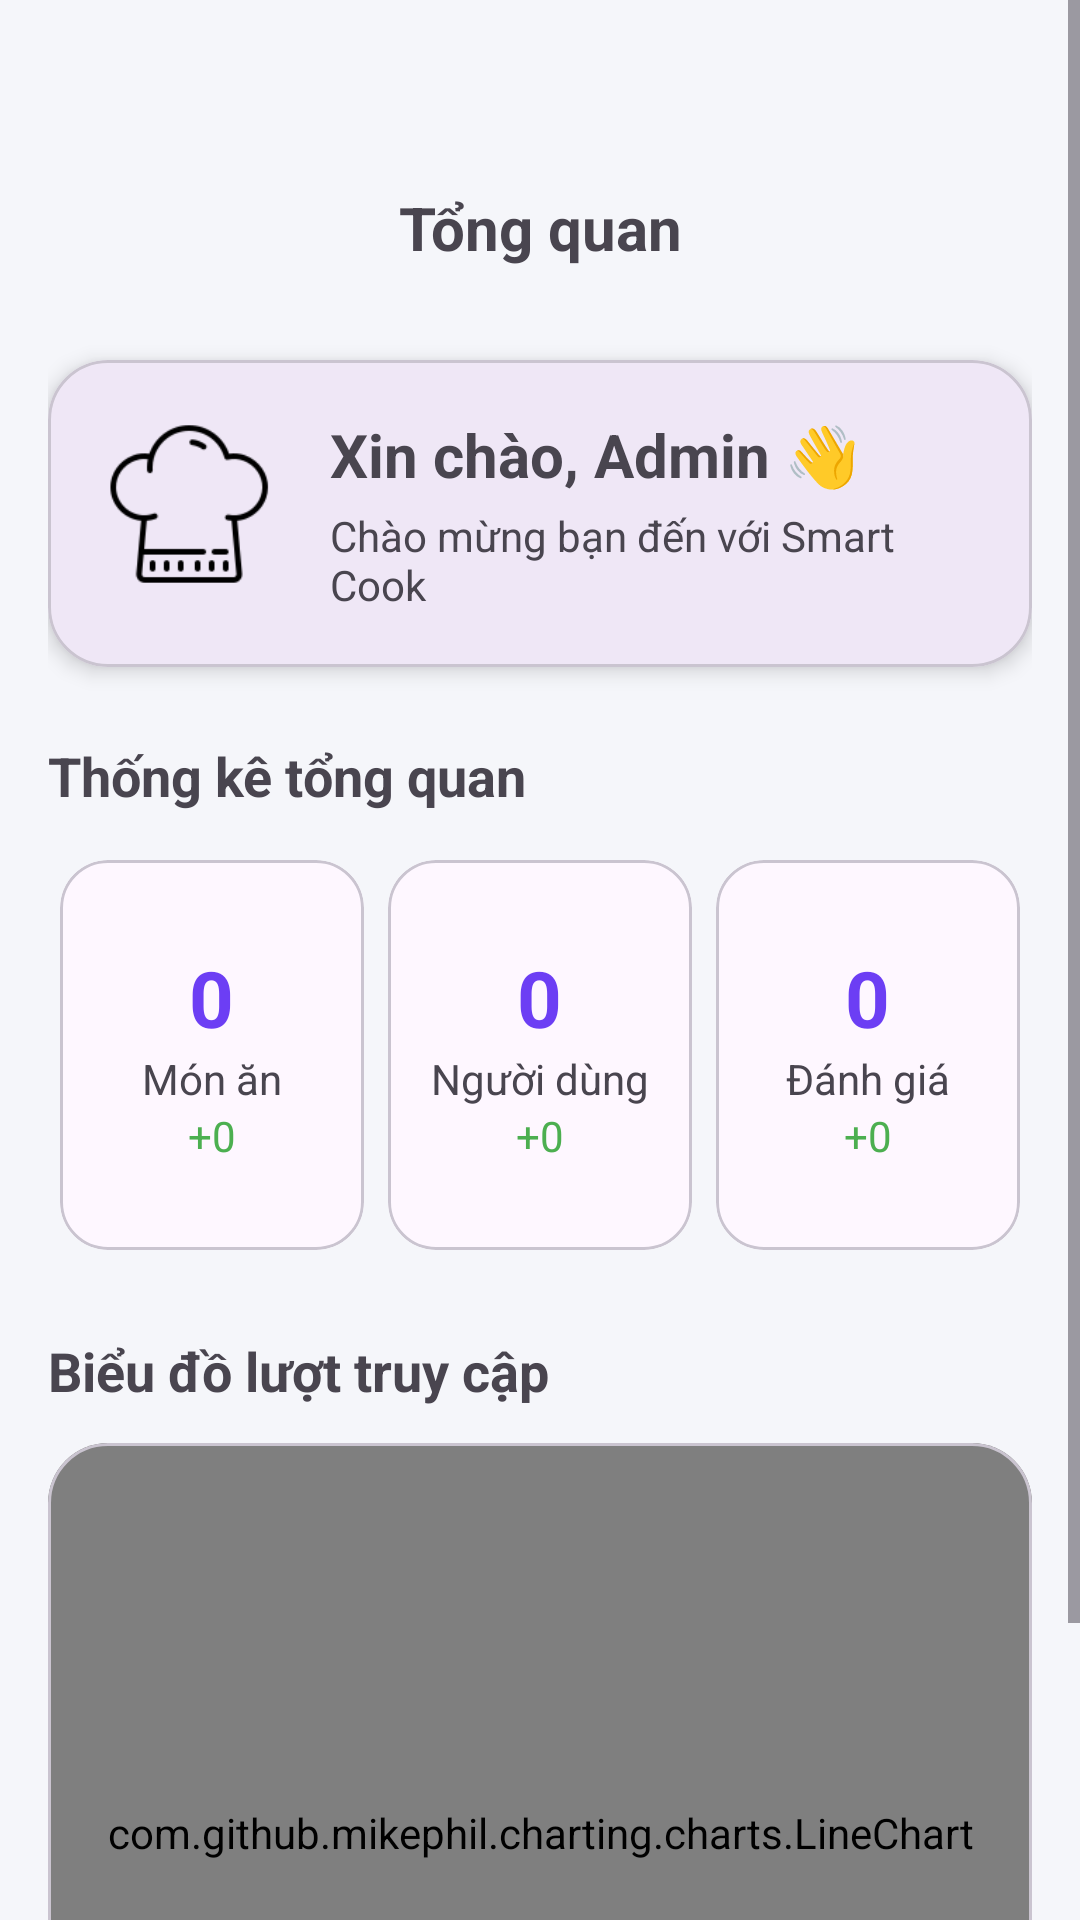

Where icons sit on this 1080 × 1920 app screen, as (x1, y1, x2, y2):
chef: (110, 425, 268, 583)
